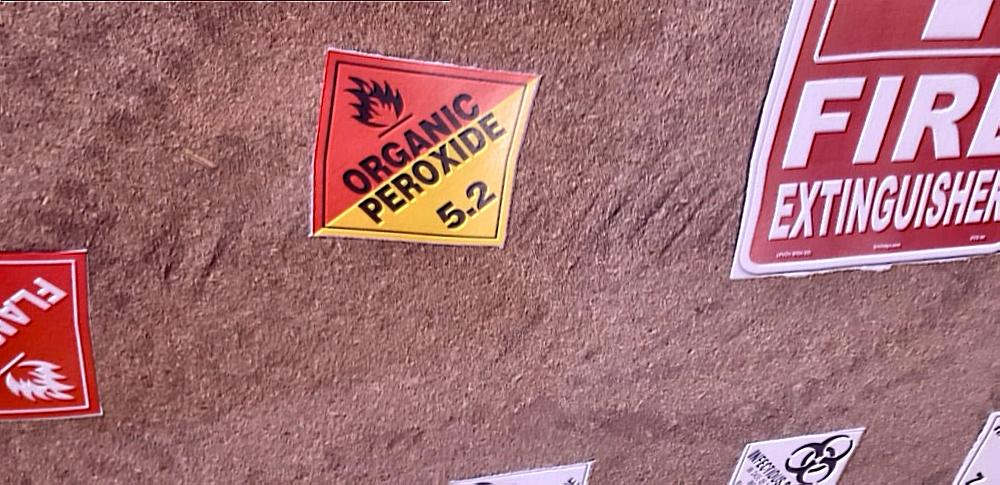organic-peroxide: (312, 50, 544, 248)
